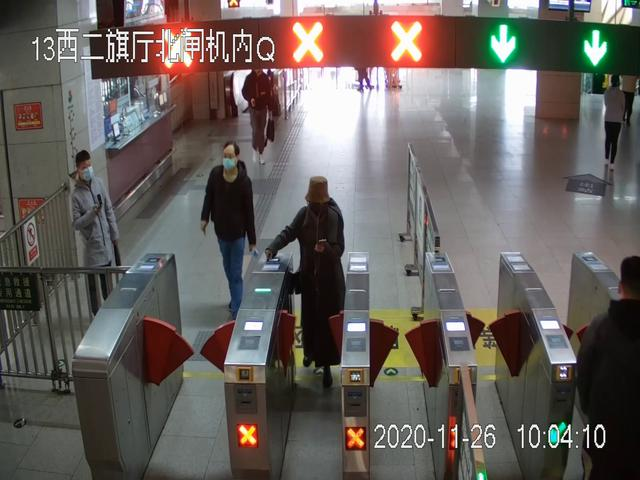person: (267, 178, 346, 385), (201, 142, 255, 320), (74, 150, 122, 314), (241, 67, 275, 164), (604, 74, 623, 171)
